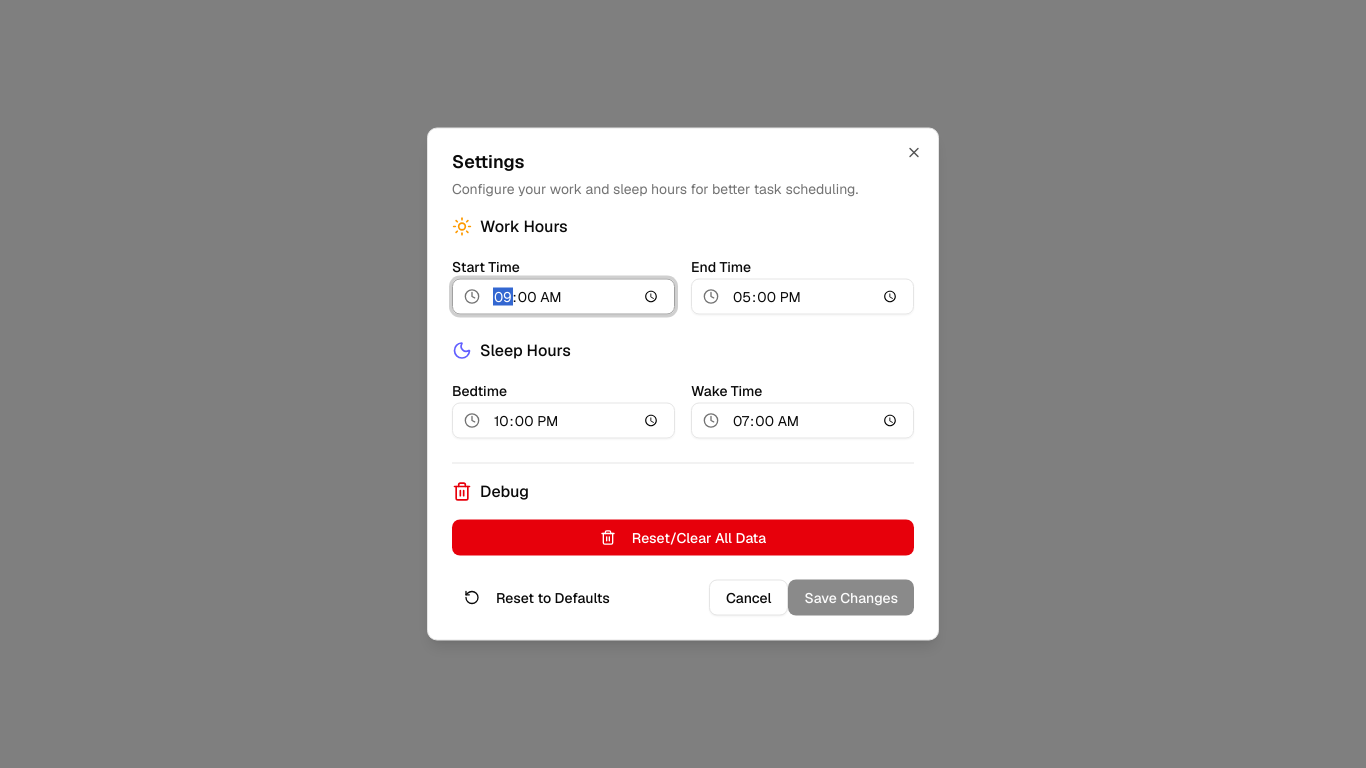
Test: Dialog Keyboard Navigation › SettingsModal - Keyboard Navigation › can cancel clear data confirmation with keyboard
The image size is (1366, 768).
Expected: the form with test id "settings-form" is shown, [452,214,914,616]
# Click clear data to show confirmation
Click the button with test id "clear-data-button" at (683, 538), box [452,520,914,556]
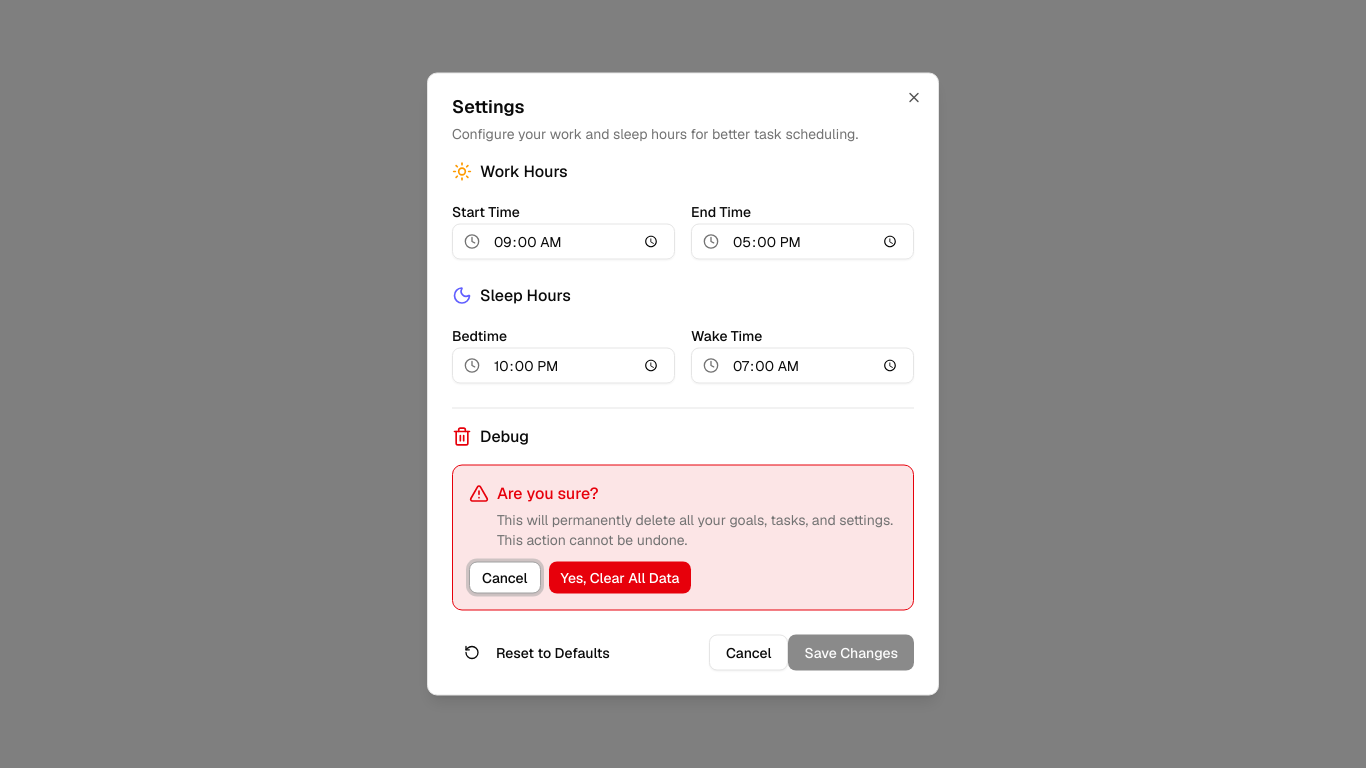
Now the element with test id "clear-data-confirm" is shown, box [452,464,914,610]
Press Enter
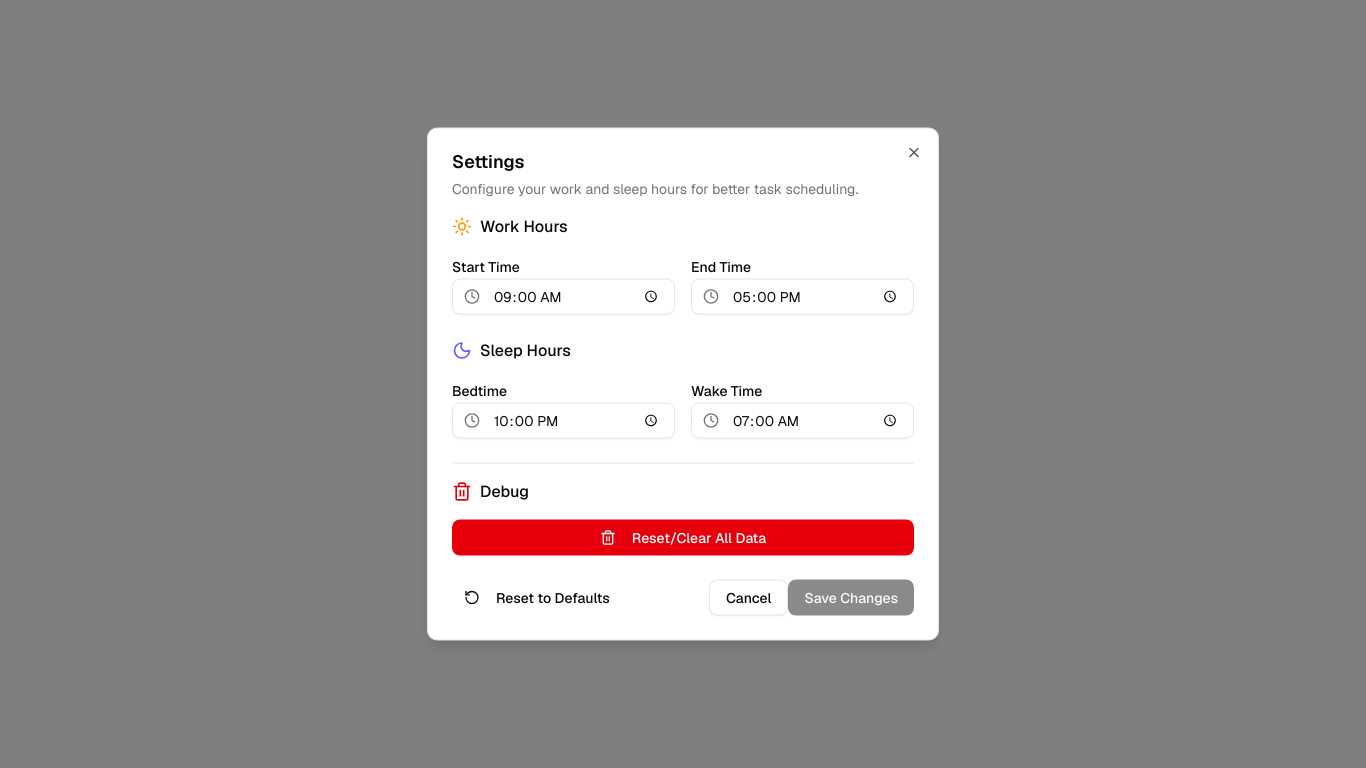
Now the element with test id "clear-data-confirm" is gone
